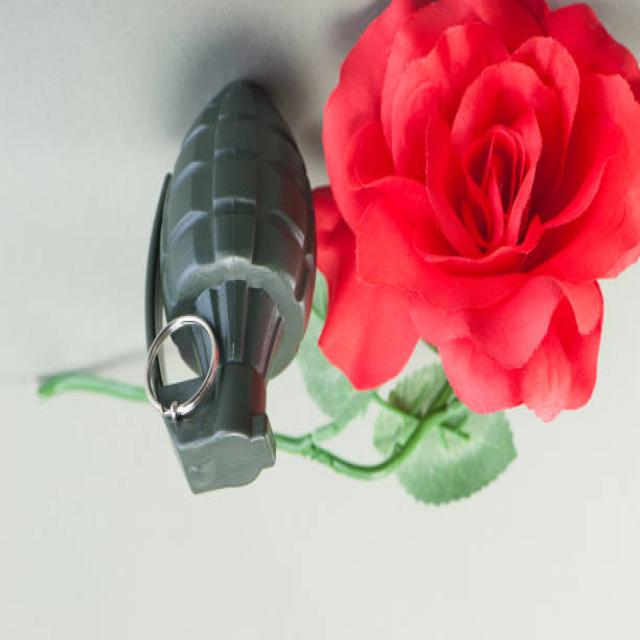grenade: (146, 80, 322, 500)
